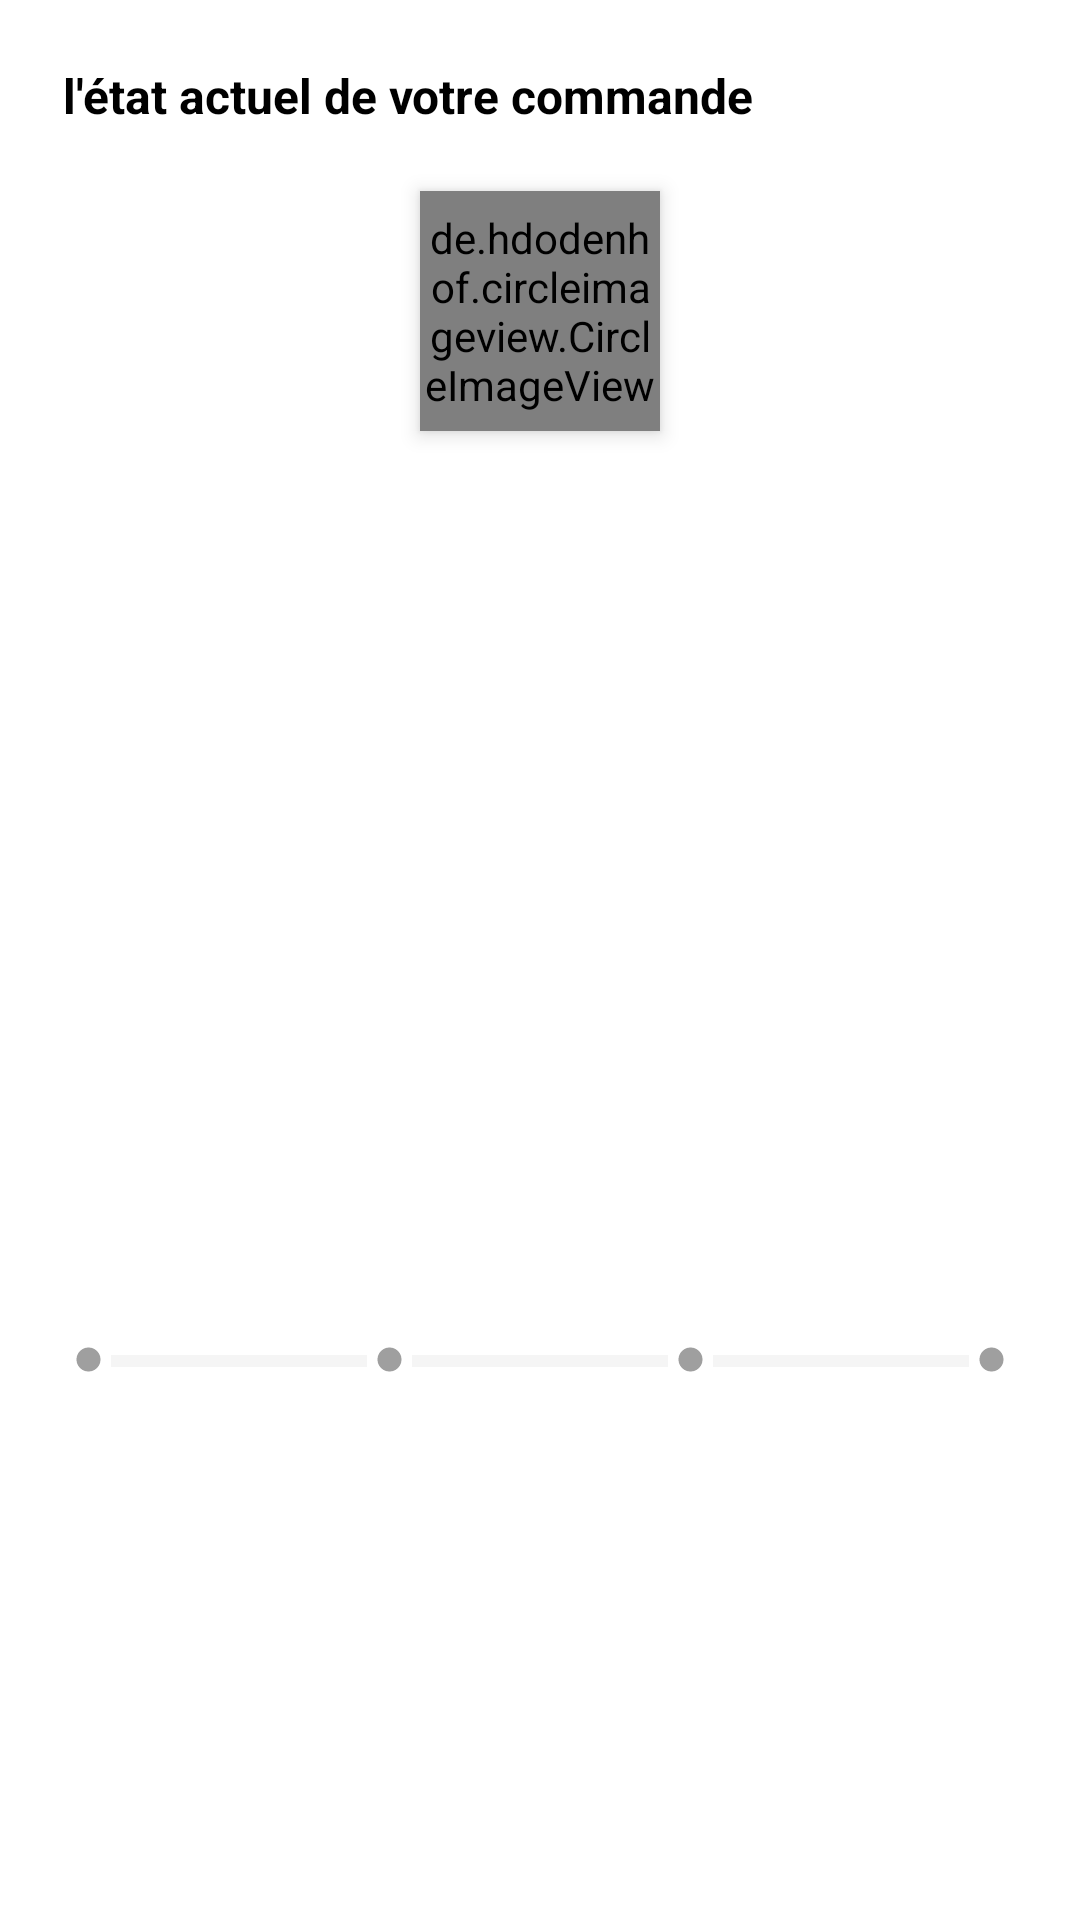

Icon click points for this 1080px x 1920px phone screenshot, format point (x, y):
dot: point (88, 1359), point (389, 1359), point (690, 1359), point (991, 1359)
